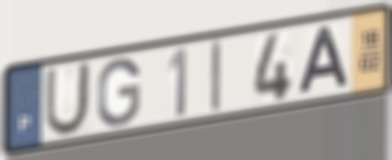1: (167, 44, 188, 120)
4: (251, 30, 295, 104)
A: (297, 23, 353, 98)
G: (95, 56, 143, 129)
I: (209, 37, 223, 117)
U: (42, 59, 93, 139)
